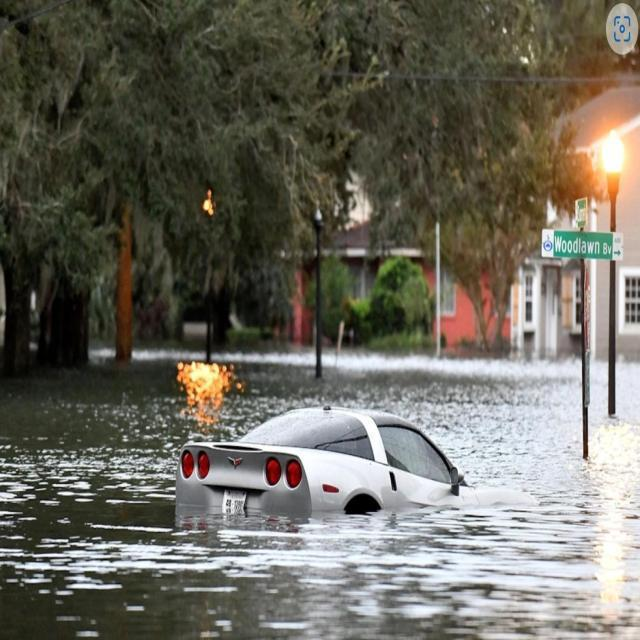water: (0, 358, 639, 638), (0, 505, 639, 638)
